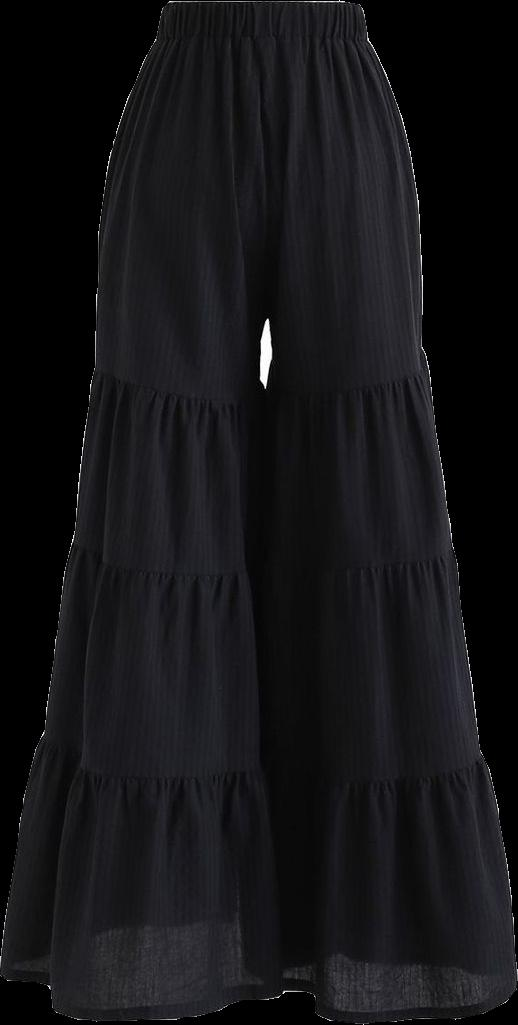Hemline: (0, 965, 260, 1024), (256, 978, 517, 1024)
Pantleg: (0, 0, 262, 1020), (260, 0, 516, 1023)
Waistline: (36, 742, 262, 784), (68, 542, 266, 584), (260, 756, 483, 789), (258, 546, 457, 581), (260, 359, 428, 398), (92, 366, 266, 403), (155, 29, 370, 47), (164, 0, 363, 16)
